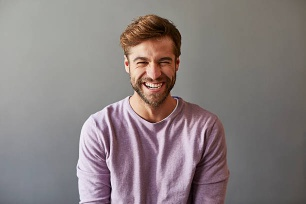male: (123, 21, 181, 106)
